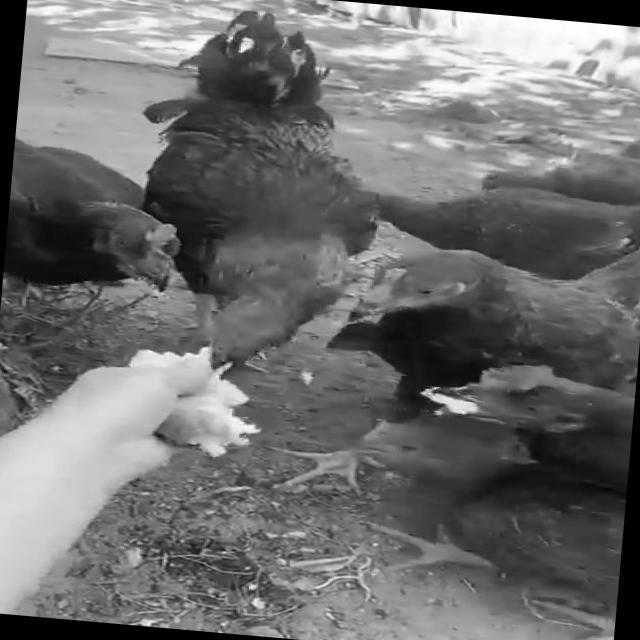feeding: (141, 0, 411, 341), (277, 259, 640, 509), (1, 135, 242, 318)
